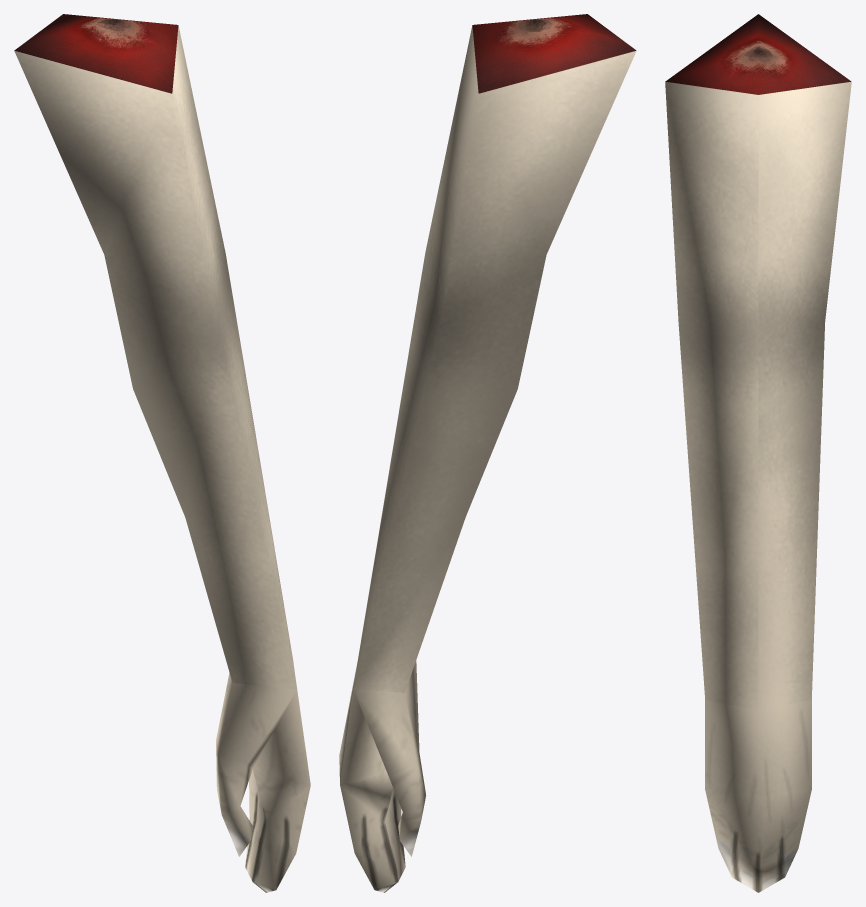
File: HumanoidRightArm.fbx
The picture shows the model from 3 angles, left to right: view 1: azimuth 30°, elevation 25°; view 2: azimuth 150°, elevation 25°; view 3: azimuth 270°, elevation 25°; orthographic projection. The views are drawn at different scales.
Visible parts, largest first — view 1: RightArm; view 2: RightArm; view 3: RightArm.
Part boxes in pixels (x1=…): RightArm: x1=14, y1=14, x2=310, y2=892; RightArm: x1=339, y1=14, x2=636, y2=892; RightArm: x1=665, y1=14, x2=851, y2=892.
Size of the model in its own units: 21.68 by 64.46 by 14.
